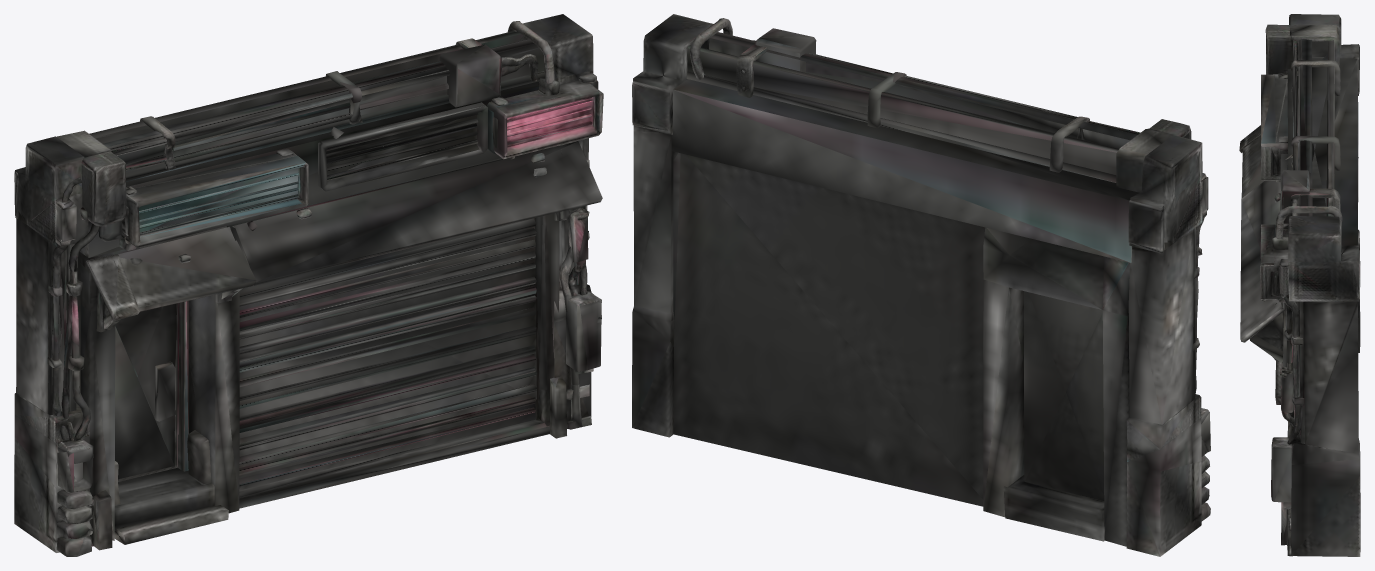
File: Shopfront.glb
3 renders of one model, left to right at view 1: azimuth 30°, elevation 25°; view 2: azimuth 150°, elevation 25°; view 3: azimuth 270°, elevation 25°, orthographic. The views are drawn at different scales.
Parts seen in each view (by area): view 1: Mesh_0; view 2: Mesh_0; view 3: Mesh_0.
Boxes of the visible parts, x1,y1,x2,y2 form: Mesh_0: (14,14,603,556); Mesh_0: (632,14,1210,556); Mesh_0: (1239,14,1360,556).
Bounding box in the file's own units: 4 × 2.84 × 0.9404.
Materials: 1 (1 with a texture image).
